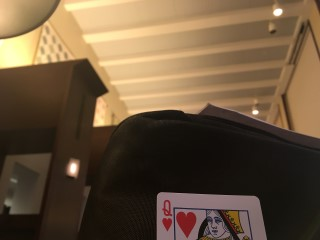QueenOfHearts: (155, 192, 268, 240)
